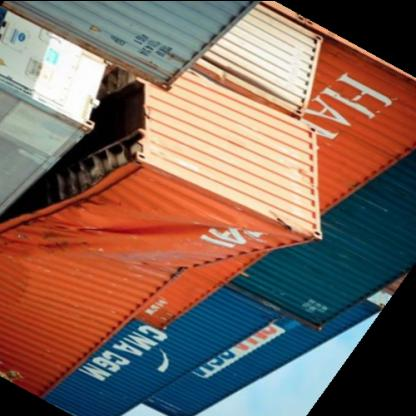Damage: (16, 193, 313, 299)
